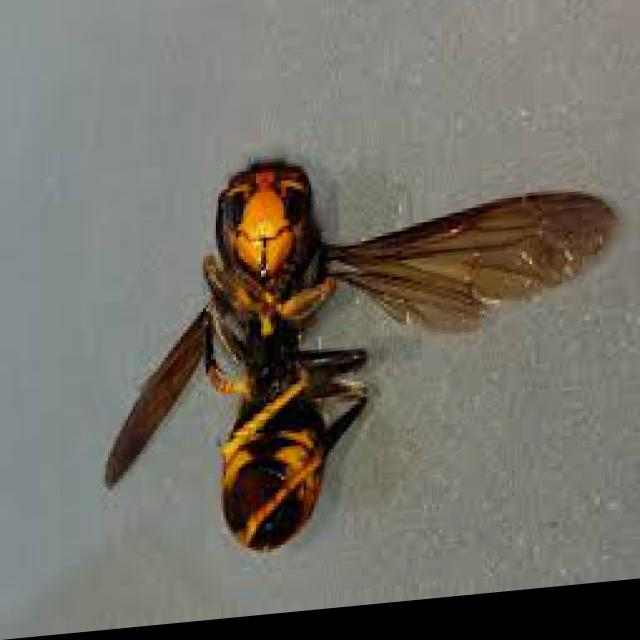Vespa Velutina: (88, 121, 620, 581)
